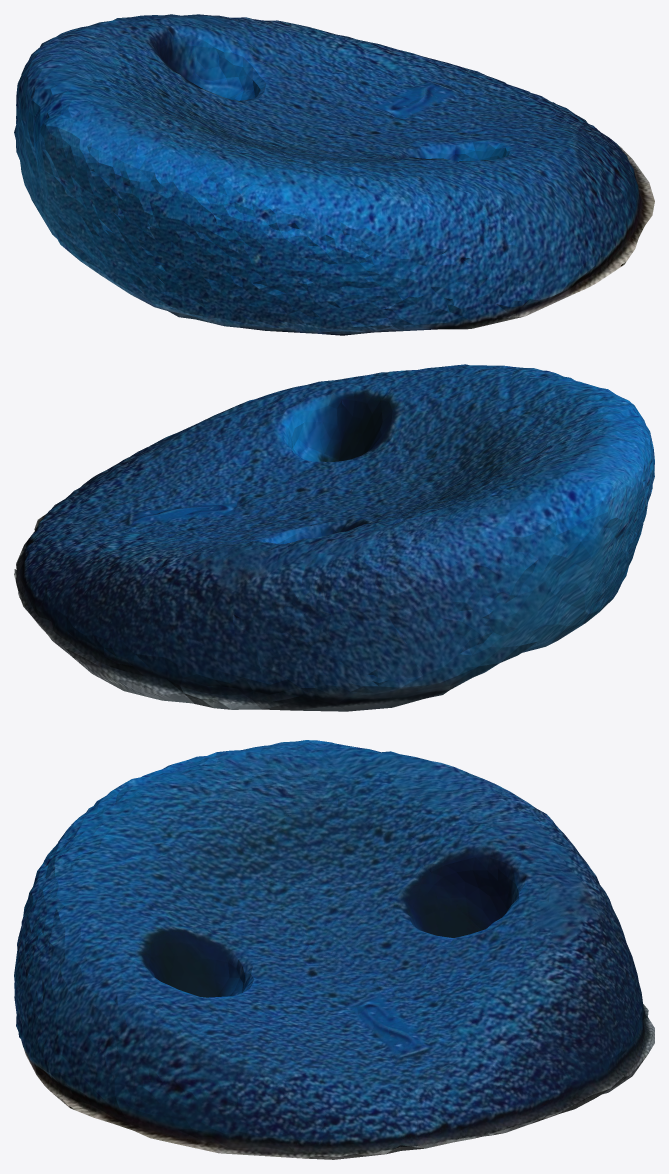
File: SNAP_5_S_num8.glb
The picture shows the model from 3 angles, top to bottom: view 1: azimuth 30°, elevation 25°; view 2: azimuth 150°, elevation 25°; view 3: azimuth 270°, elevation 25°; orthographic projection.
Bounding box in the file's own units: 0.2223 × 0.0698 × 0.2209.
1 material, 1 textured.
